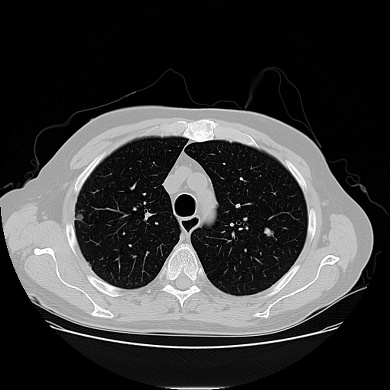PN: (265, 228, 273, 236)
